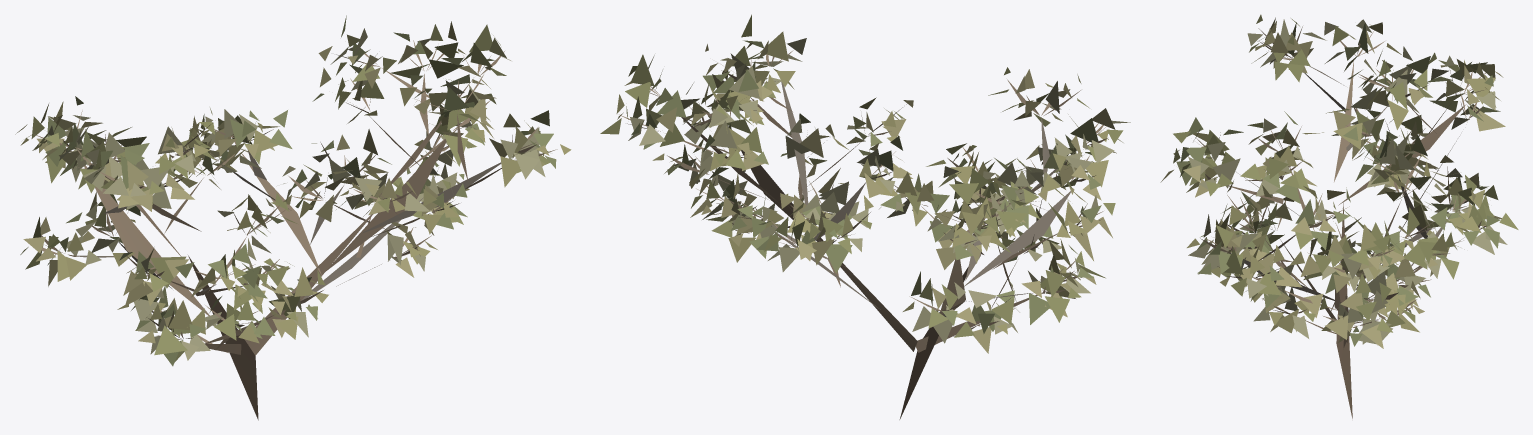
File: broad-poplar-far.glb
3 renders of one model, left to right at view 1: azimuth 30°, elevation 25°; view 2: azimuth 150°, elevation 25°; view 3: azimuth 270°, elevation 25°, orthographic. The views are drawn at different scales.
Bounding box in the file's own units: 4.49 × 3.2 × 2.99.
